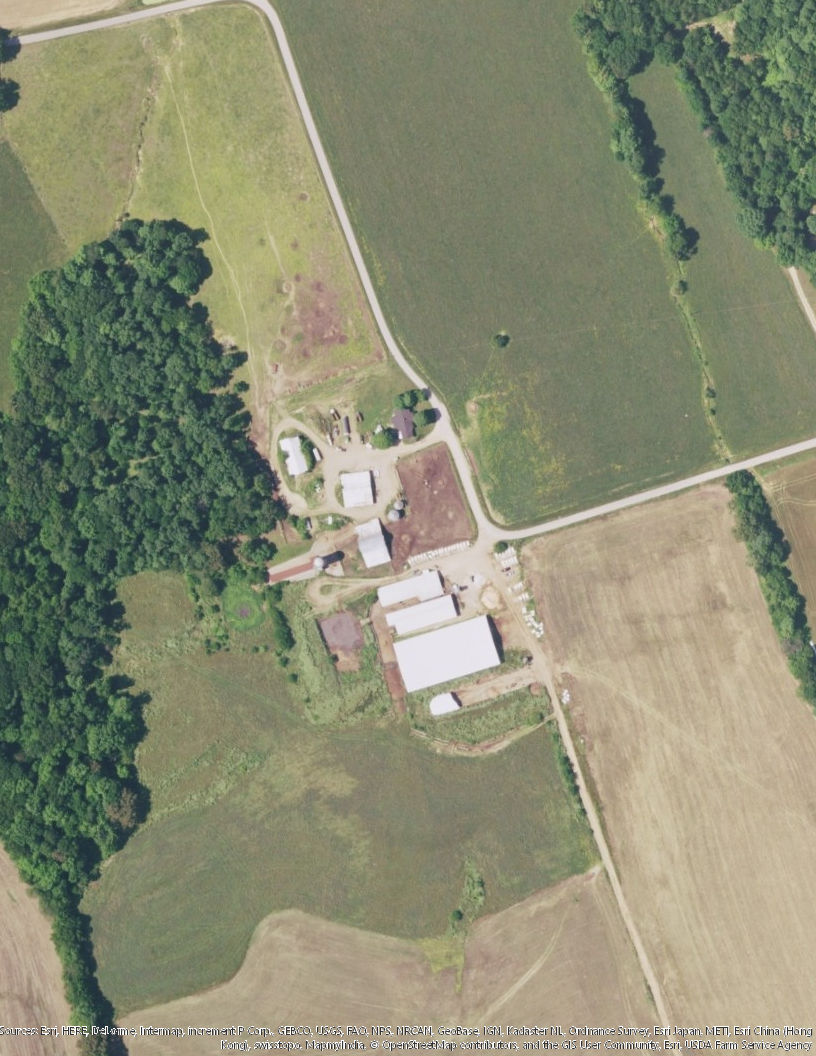cafo: (387, 612, 514, 695), (373, 561, 454, 608), (388, 588, 467, 635), (352, 518, 396, 570)
